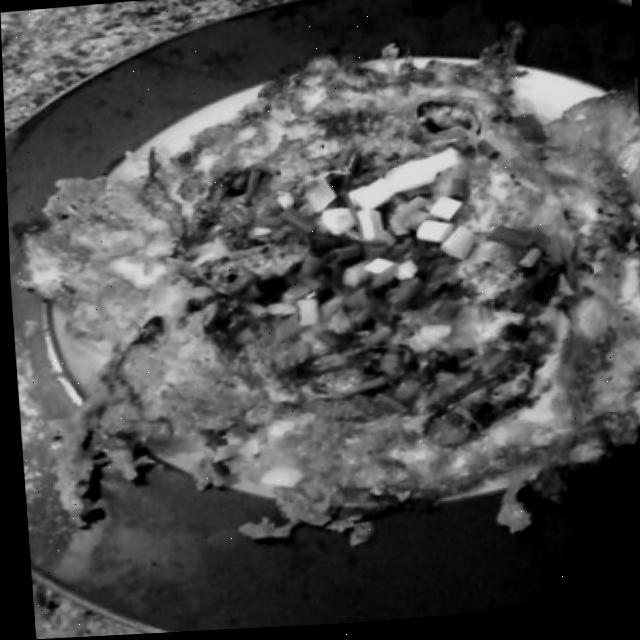炸货点心: (0, 0, 640, 624)
蛋糕甜品: (0, 0, 640, 624)
